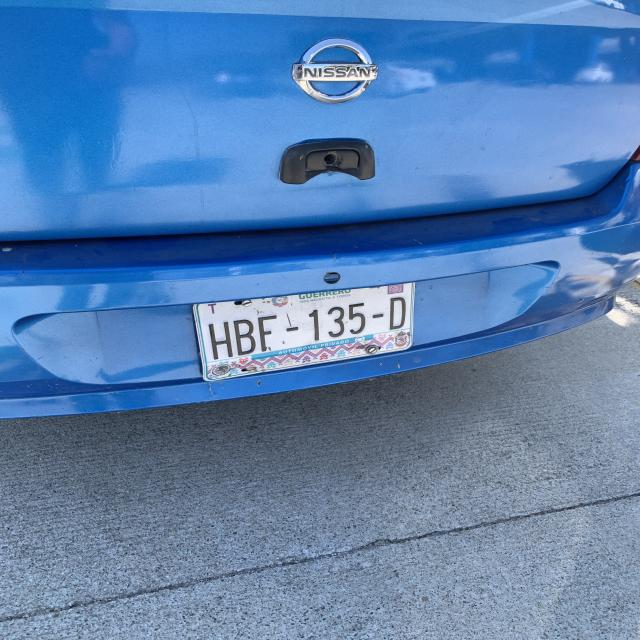placa: (189, 296, 416, 361)
